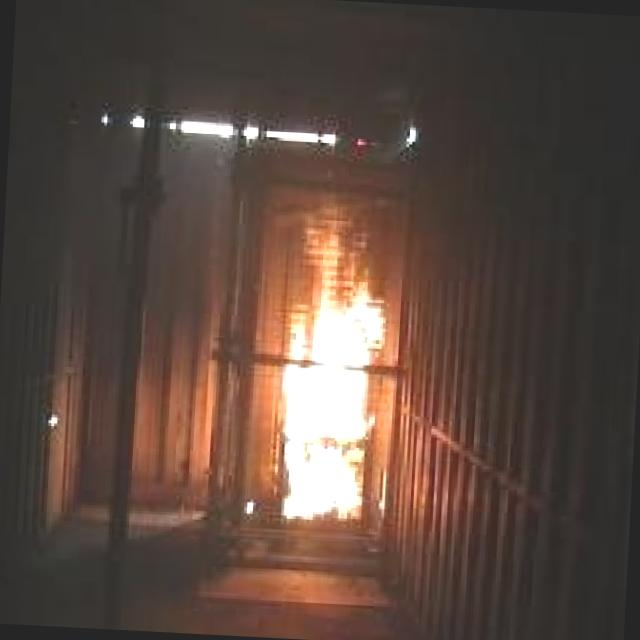fire: (251, 272, 401, 526)
